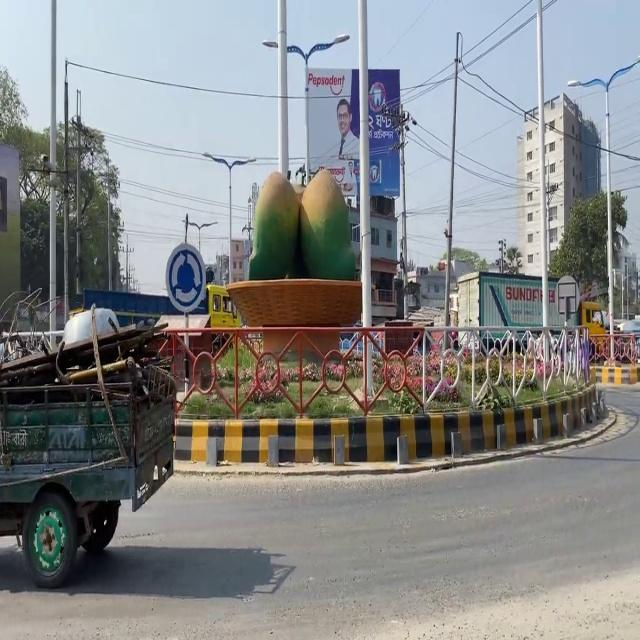Construction-barrier: (173, 397, 607, 468)
Garbage-bin: (335, 98, 359, 159)
Light-pole: (357, 0, 373, 413), (535, 0, 550, 360), (47, 0, 58, 347), (276, 0, 289, 179)
Traffic-cone: (0, 310, 178, 588), (571, 300, 639, 362)
